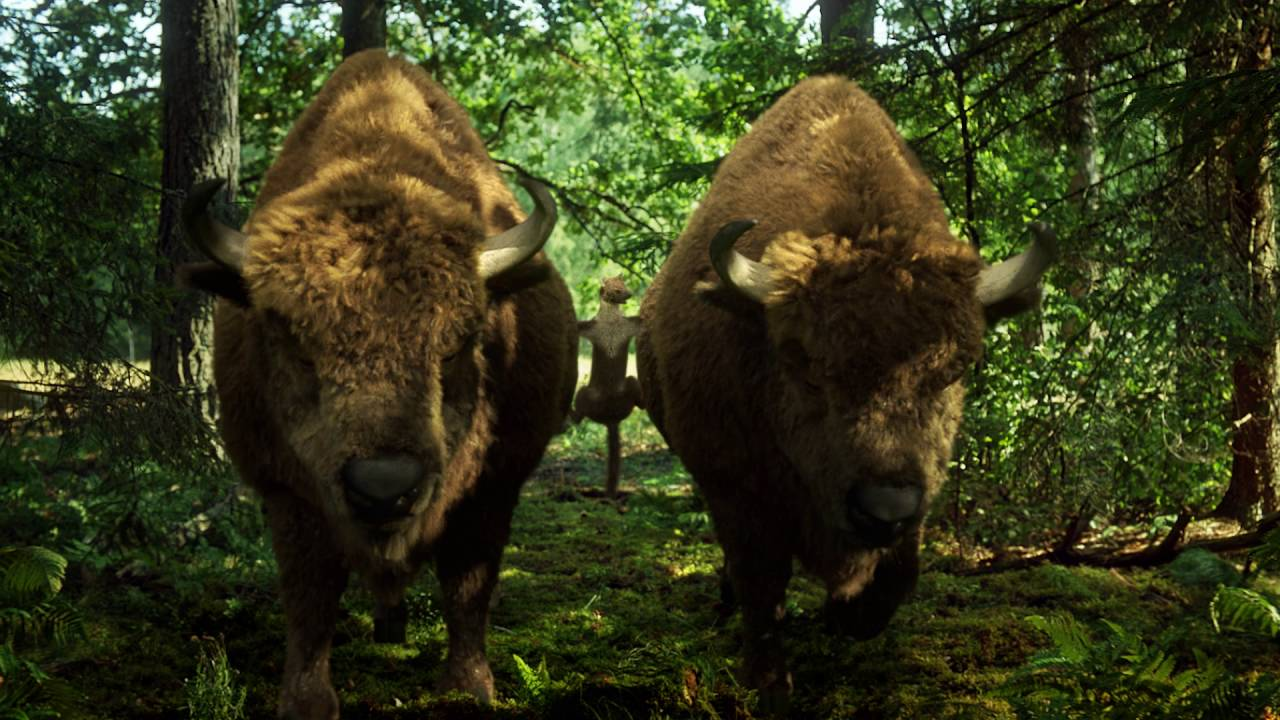zubr: (150, 30, 627, 687)
